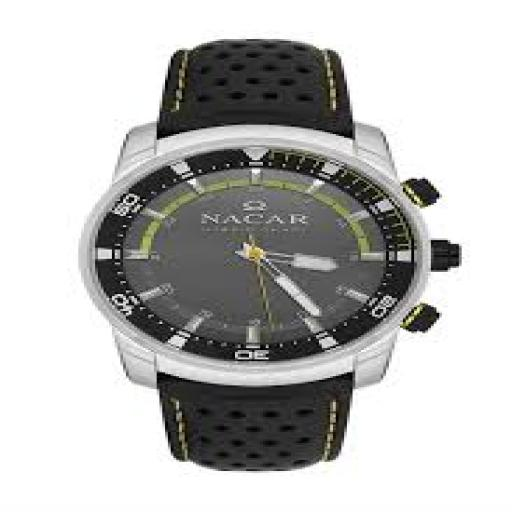KolSaati: (20, 25, 442, 468)
